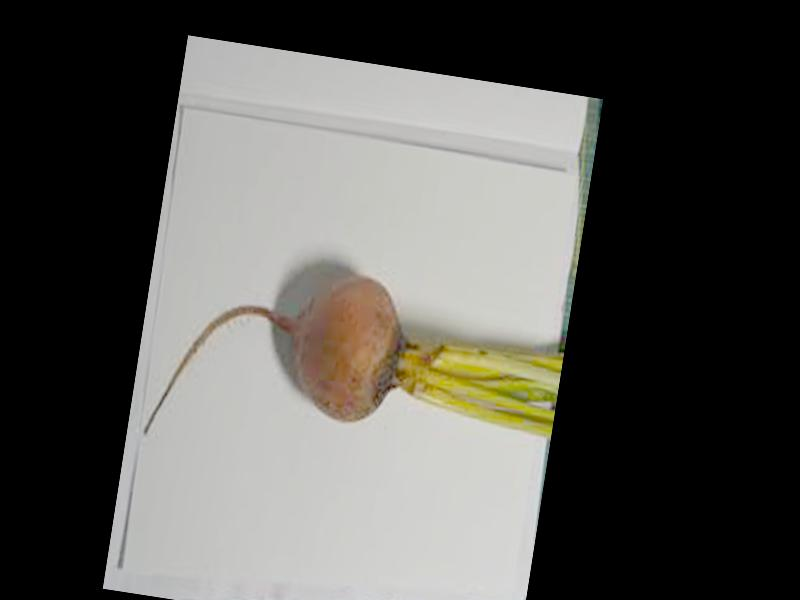Beet: (143, 247, 566, 493)
